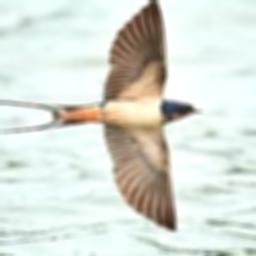Swallow: (0, 0, 203, 229)
